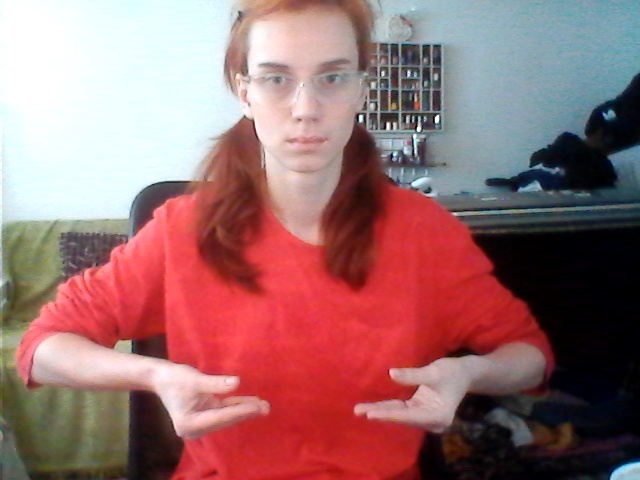drzat: (146, 349, 487, 440)
